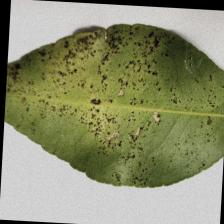canker: (56, 48, 154, 161)
